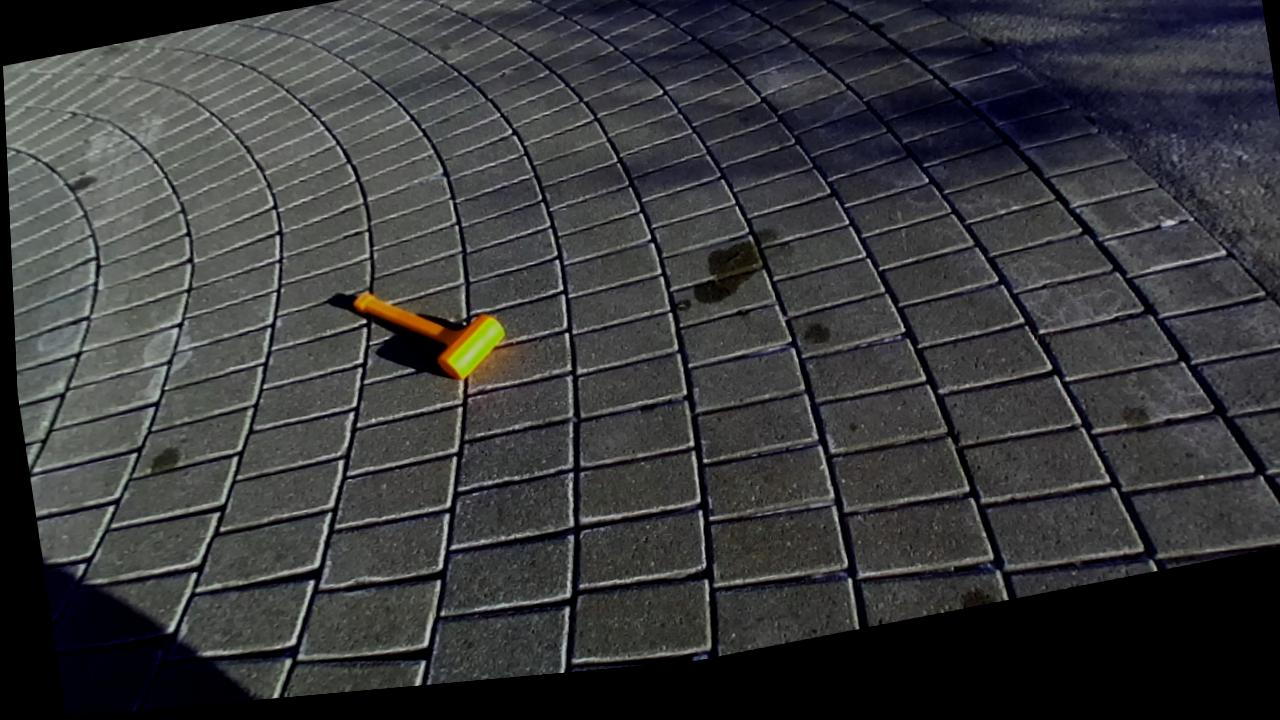mallet: (353, 293, 504, 378)
